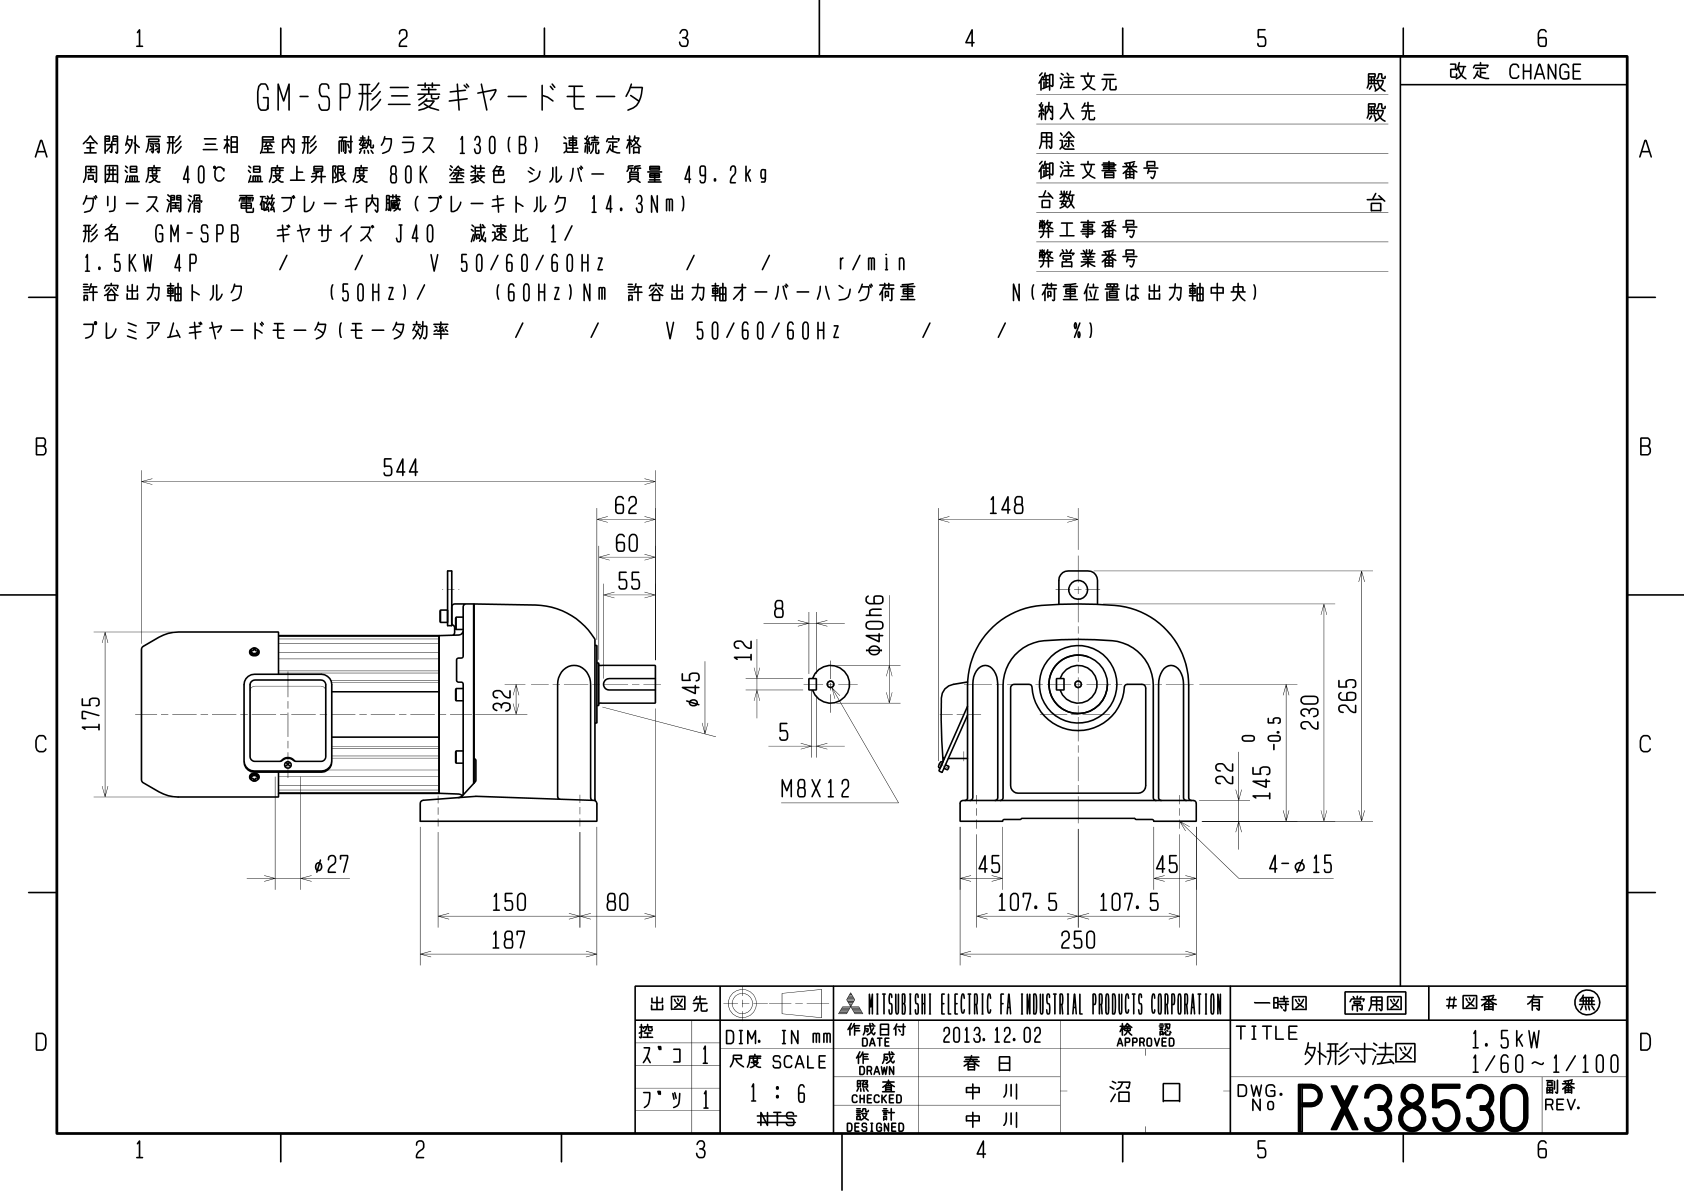GM_SP_屋内_三相_脚: (1, 1, 1678, 1172)
